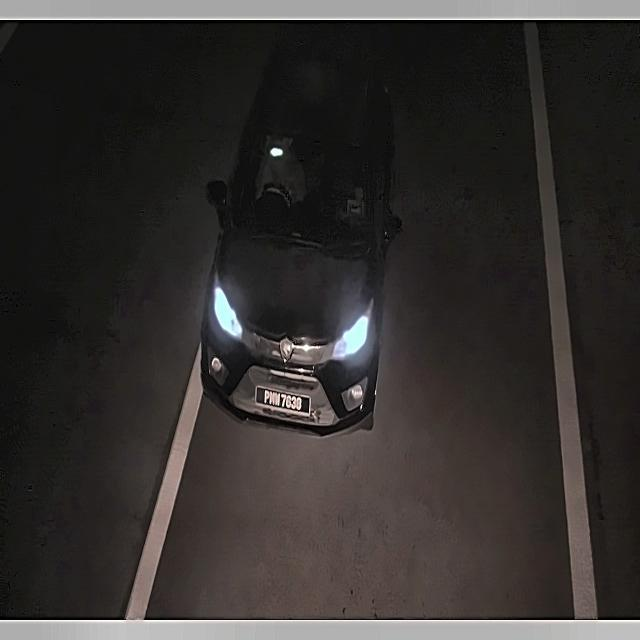car: (255, 377, 313, 424)
